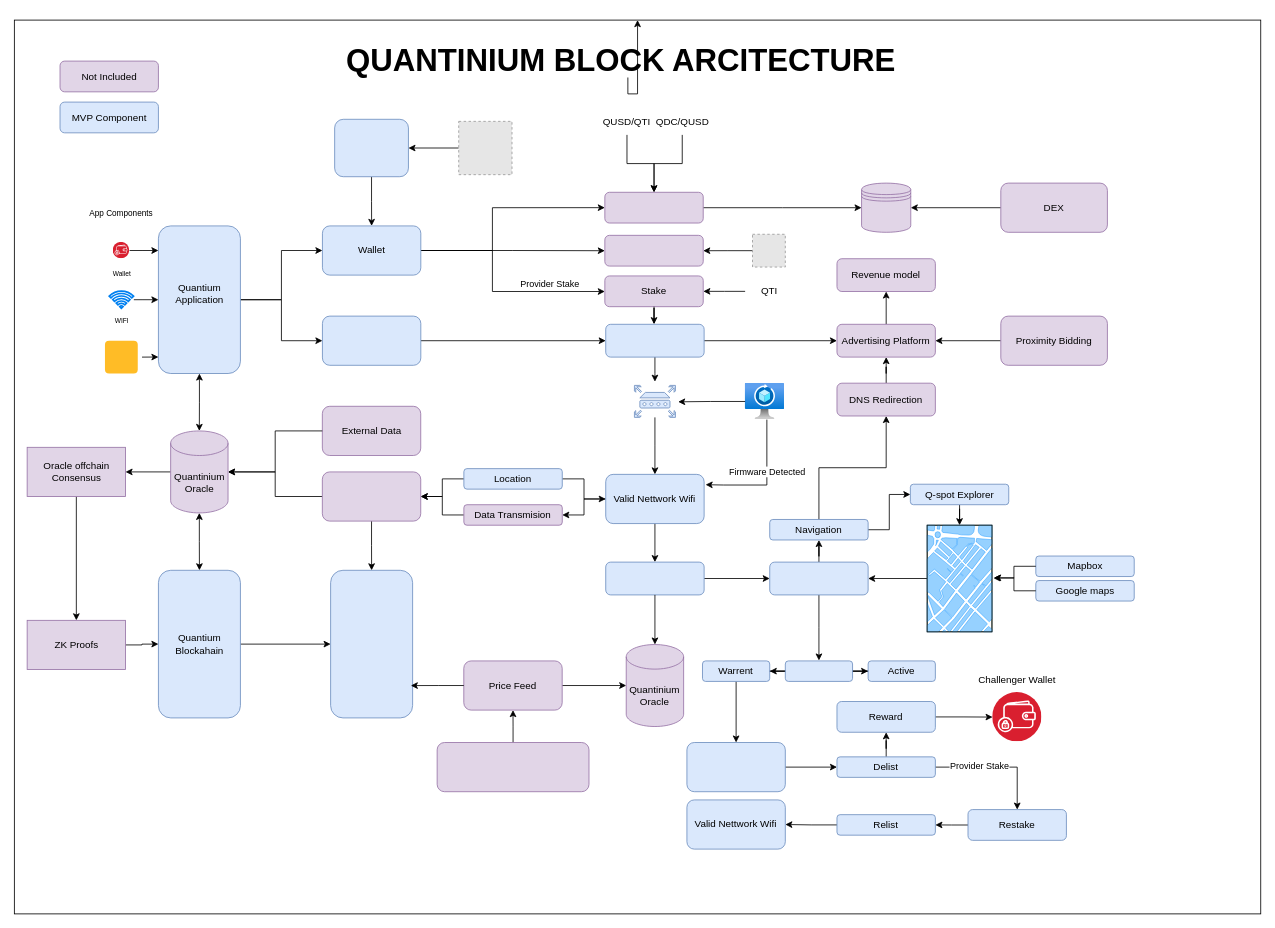
Image size: 1275x928. Some labels were removed from this diagram. Grey dashed boxes stand in for pictures. Each missing label, with the centre of its shape:
Broadcast: (654,340)
Challenge: (121,356)
Connect: (818,670)
Hotspot data: (371,496)
Hotspots: (371,340)
Invalid Nettwork Wifi: (735,767)
Least Cost Routing Algorithm: (512,767)
MAP: (959,578)
Node RPC: (371,643)
Pools: (886,207)
Quantinium Firmware: (764,401)
Router: (654,401)
Subscription: (654,578)
Swap: (653,207)
Transfer: (653,250)
User Metadata {Phone Number, Username}: (371,147)
Wifi list: (818,578)
